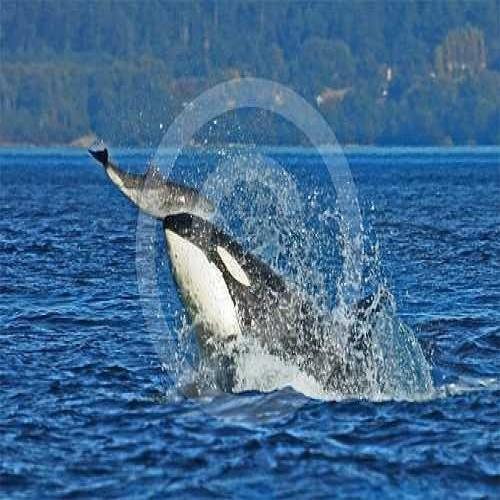killer_whale-endangered: (151, 208, 403, 422), (88, 126, 226, 236)
